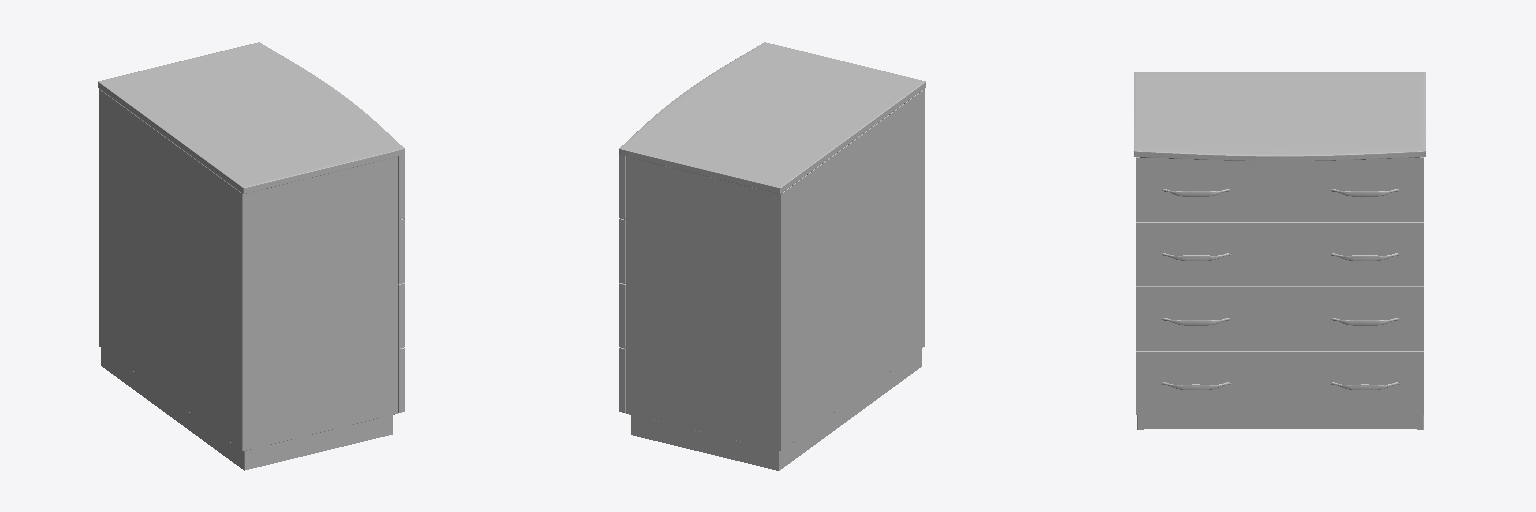
Rendered from chest.obj.
The picture shows the model from 3 angles: view 1: azimuth 30°, elevation 25°; view 2: azimuth 150°, elevation 25°; view 3: azimuth 270°, elevation 25°; orthographic projection.
Parts seen in each view (by area): view 1: komod_Cube.003; view 2: komod_Cube.003; view 3: komod_Cube.003, polka1.002_Cube.001, polka1.003_Cube.004, polka1.001_Cube.000, polka1_Cube.002.
Part boxes in pixels (x1,y1,x2,y2): komod_Cube.003: (98, 42, 404, 470); komod_Cube.003: (619, 42, 925, 470); komod_Cube.003: (1134, 72, 1425, 429); polka1.002_Cube.001: (1136, 286, 1423, 350); polka1.003_Cube.004: (1136, 351, 1423, 414); polka1.001_Cube.000: (1136, 222, 1423, 285); polka1_Cube.002: (1136, 157, 1423, 221).
Bounding box in the file's own units: 0.5483 × 0.8715 × 0.8112.